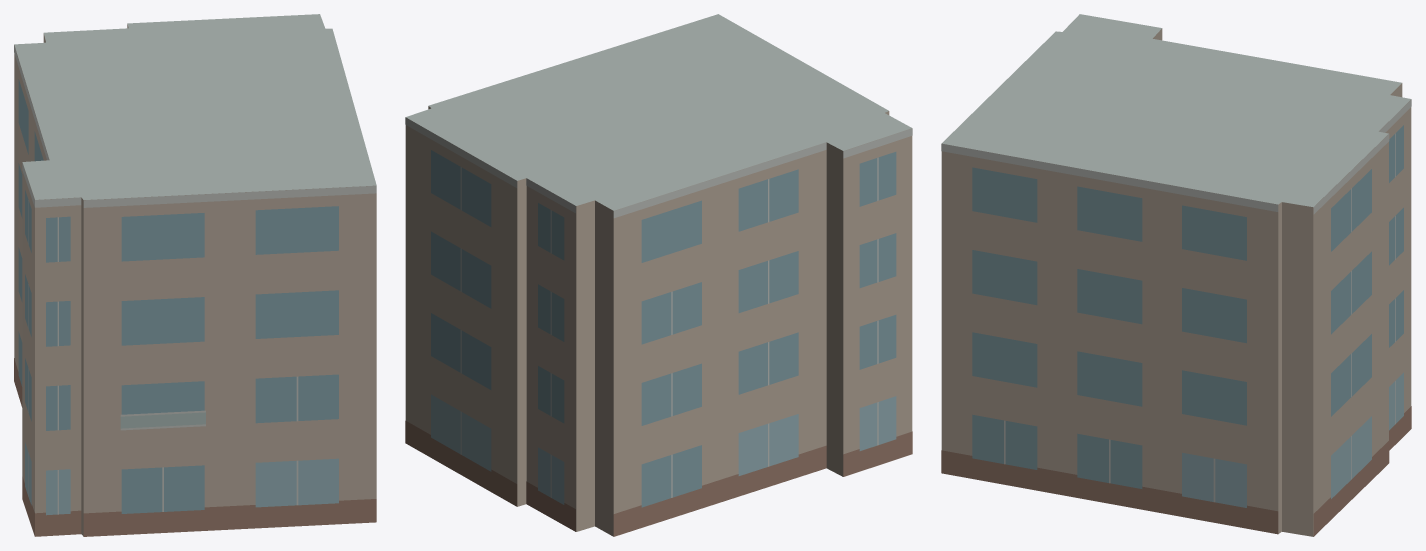
The model's file is survey-upis-33029257.glb.
The picture shows the model from 3 angles, left to right: view 1: azimuth 30°, elevation 25°; view 2: azimuth 150°, elevation 25°; view 3: azimuth 270°, elevation 25°; orthographic projection. The views are drawn at different scales.
Parts seen in each view (by area): view 1: survey-upis-33029257.tmp; view 2: survey-upis-33029257.tmp; view 3: survey-upis-33029257.tmp.
Boxes of the visible parts, box(x1,y1,x2,y2) form: survey-upis-33029257.tmp: box(14, 14, 376, 536); survey-upis-33029257.tmp: box(405, 14, 912, 536); survey-upis-33029257.tmp: box(941, 14, 1411, 536).
Bounding box in the file's own units: 13.2 × 10.5 × 13.57.
